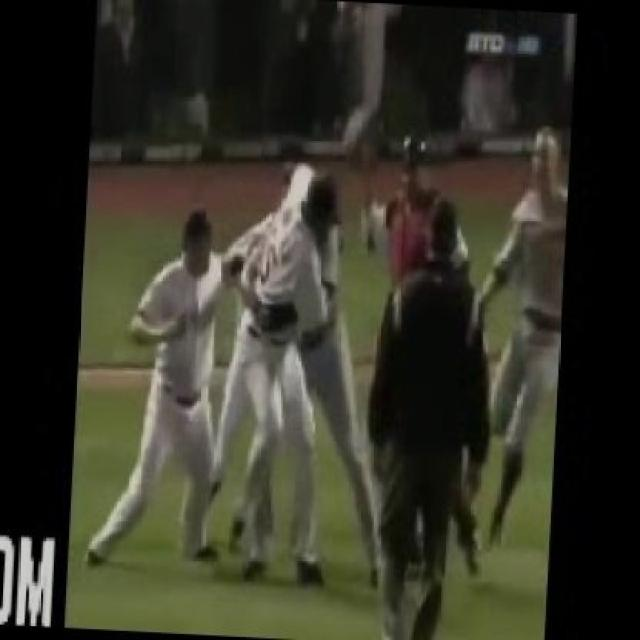fight: (83, 154, 355, 614)
non-fight: (365, 190, 495, 640)
